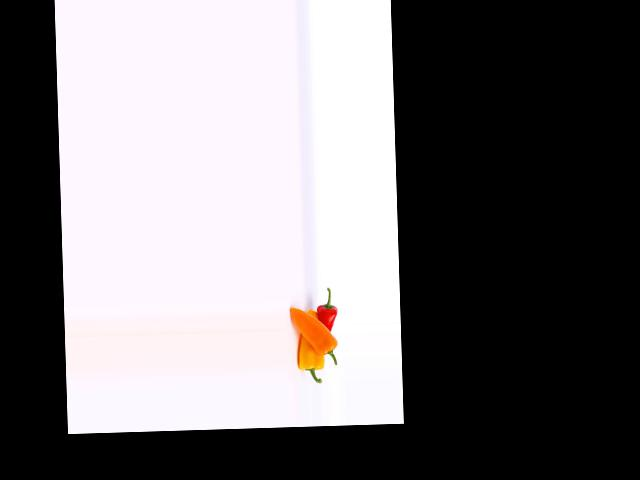bell_pepper: (291, 327, 328, 386)
